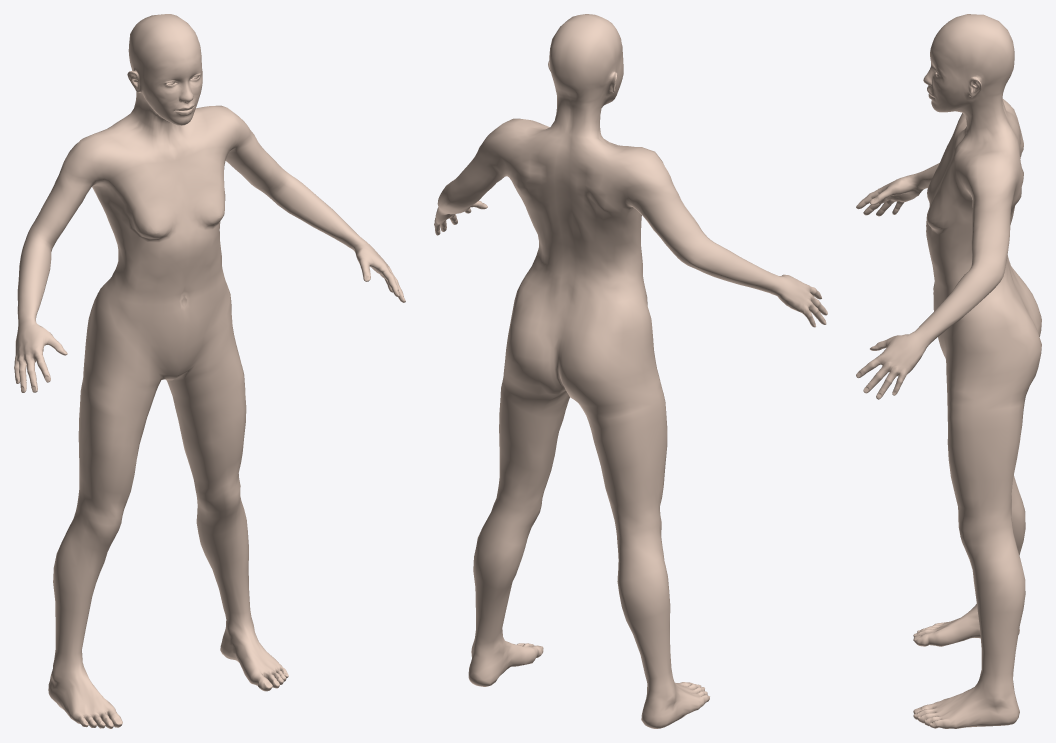
Rendered from body.glb.
3 views of the same model, side by side, from view 1: azimuth 30°, elevation 25°; view 2: azimuth 150°, elevation 25°; view 3: azimuth 270°, elevation 25° (orthographic).
Parts seen in each view (by area): view 1: Body; view 2: Body; view 3: Body.
Boxes of the visible parts, x1,y1,x2,y2 form: Body: (14,14,405,728); Body: (434,14,827,728); Body: (856,14,1041,728).
Bounding box in the file's own units: 0.9927 × 1.67 × 0.4229.
